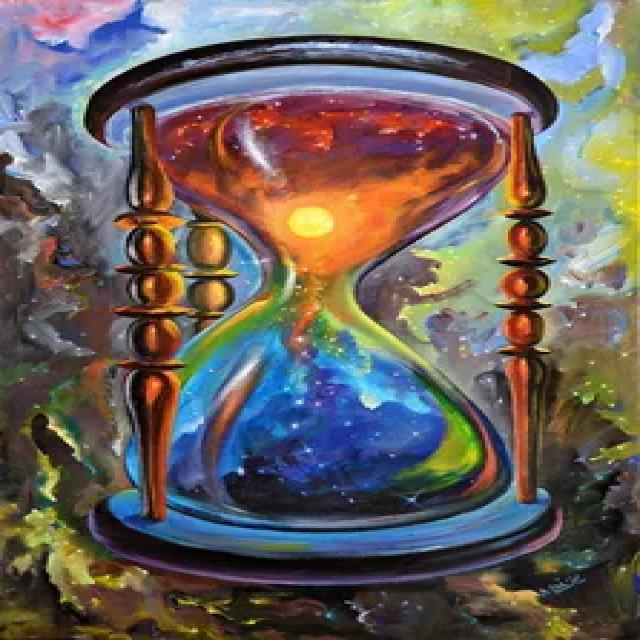clock: (78, 27, 581, 596)
